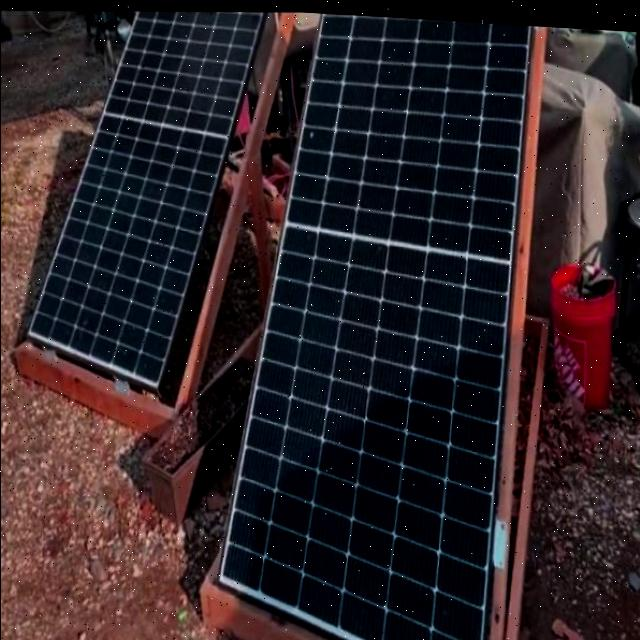Normal Solar Panel: (187, 3, 566, 640), (11, 0, 286, 402)
